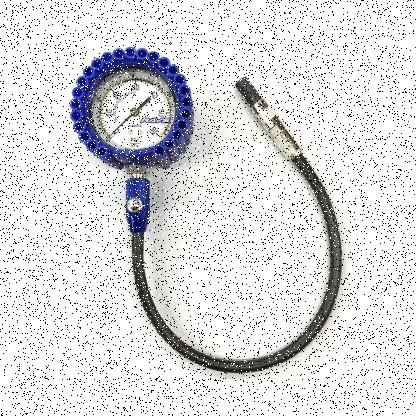needle: (106, 113, 133, 139)
